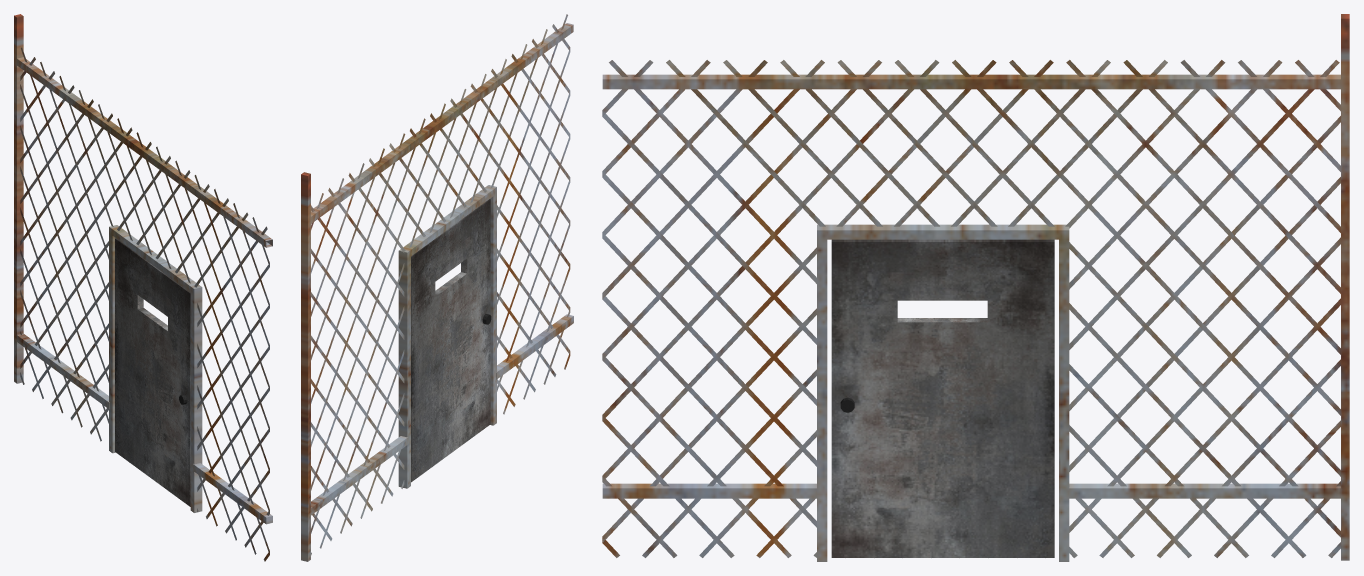
File: reja_con_puerta.fbx
3 renders of one model, left to right at view 1: azimuth 30°, elevation 25°; view 2: azimuth 150°, elevation 25°; view 3: azimuth 270°, elevation 25°, orthographic. The views are drawn at different scales.
Visible parts, largest first — view 1: reja con puerta, door reja; view 2: reja con puerta, door reja; view 3: reja con puerta, door reja.
Part boxes in pixels (<box>): reja con puerta: <box>14,14,272,561</box>; door reja: <box>115,238,190,506</box>; reja con puerta: <box>301,14,573,561</box>; door reja: <box>411,199,491,482</box>; reja con puerta: <box>602,14,1349,561</box>; door reja: <box>831,239,1054,557</box>.
Size of the model in its own units: 11.91 by 329 by 411.
